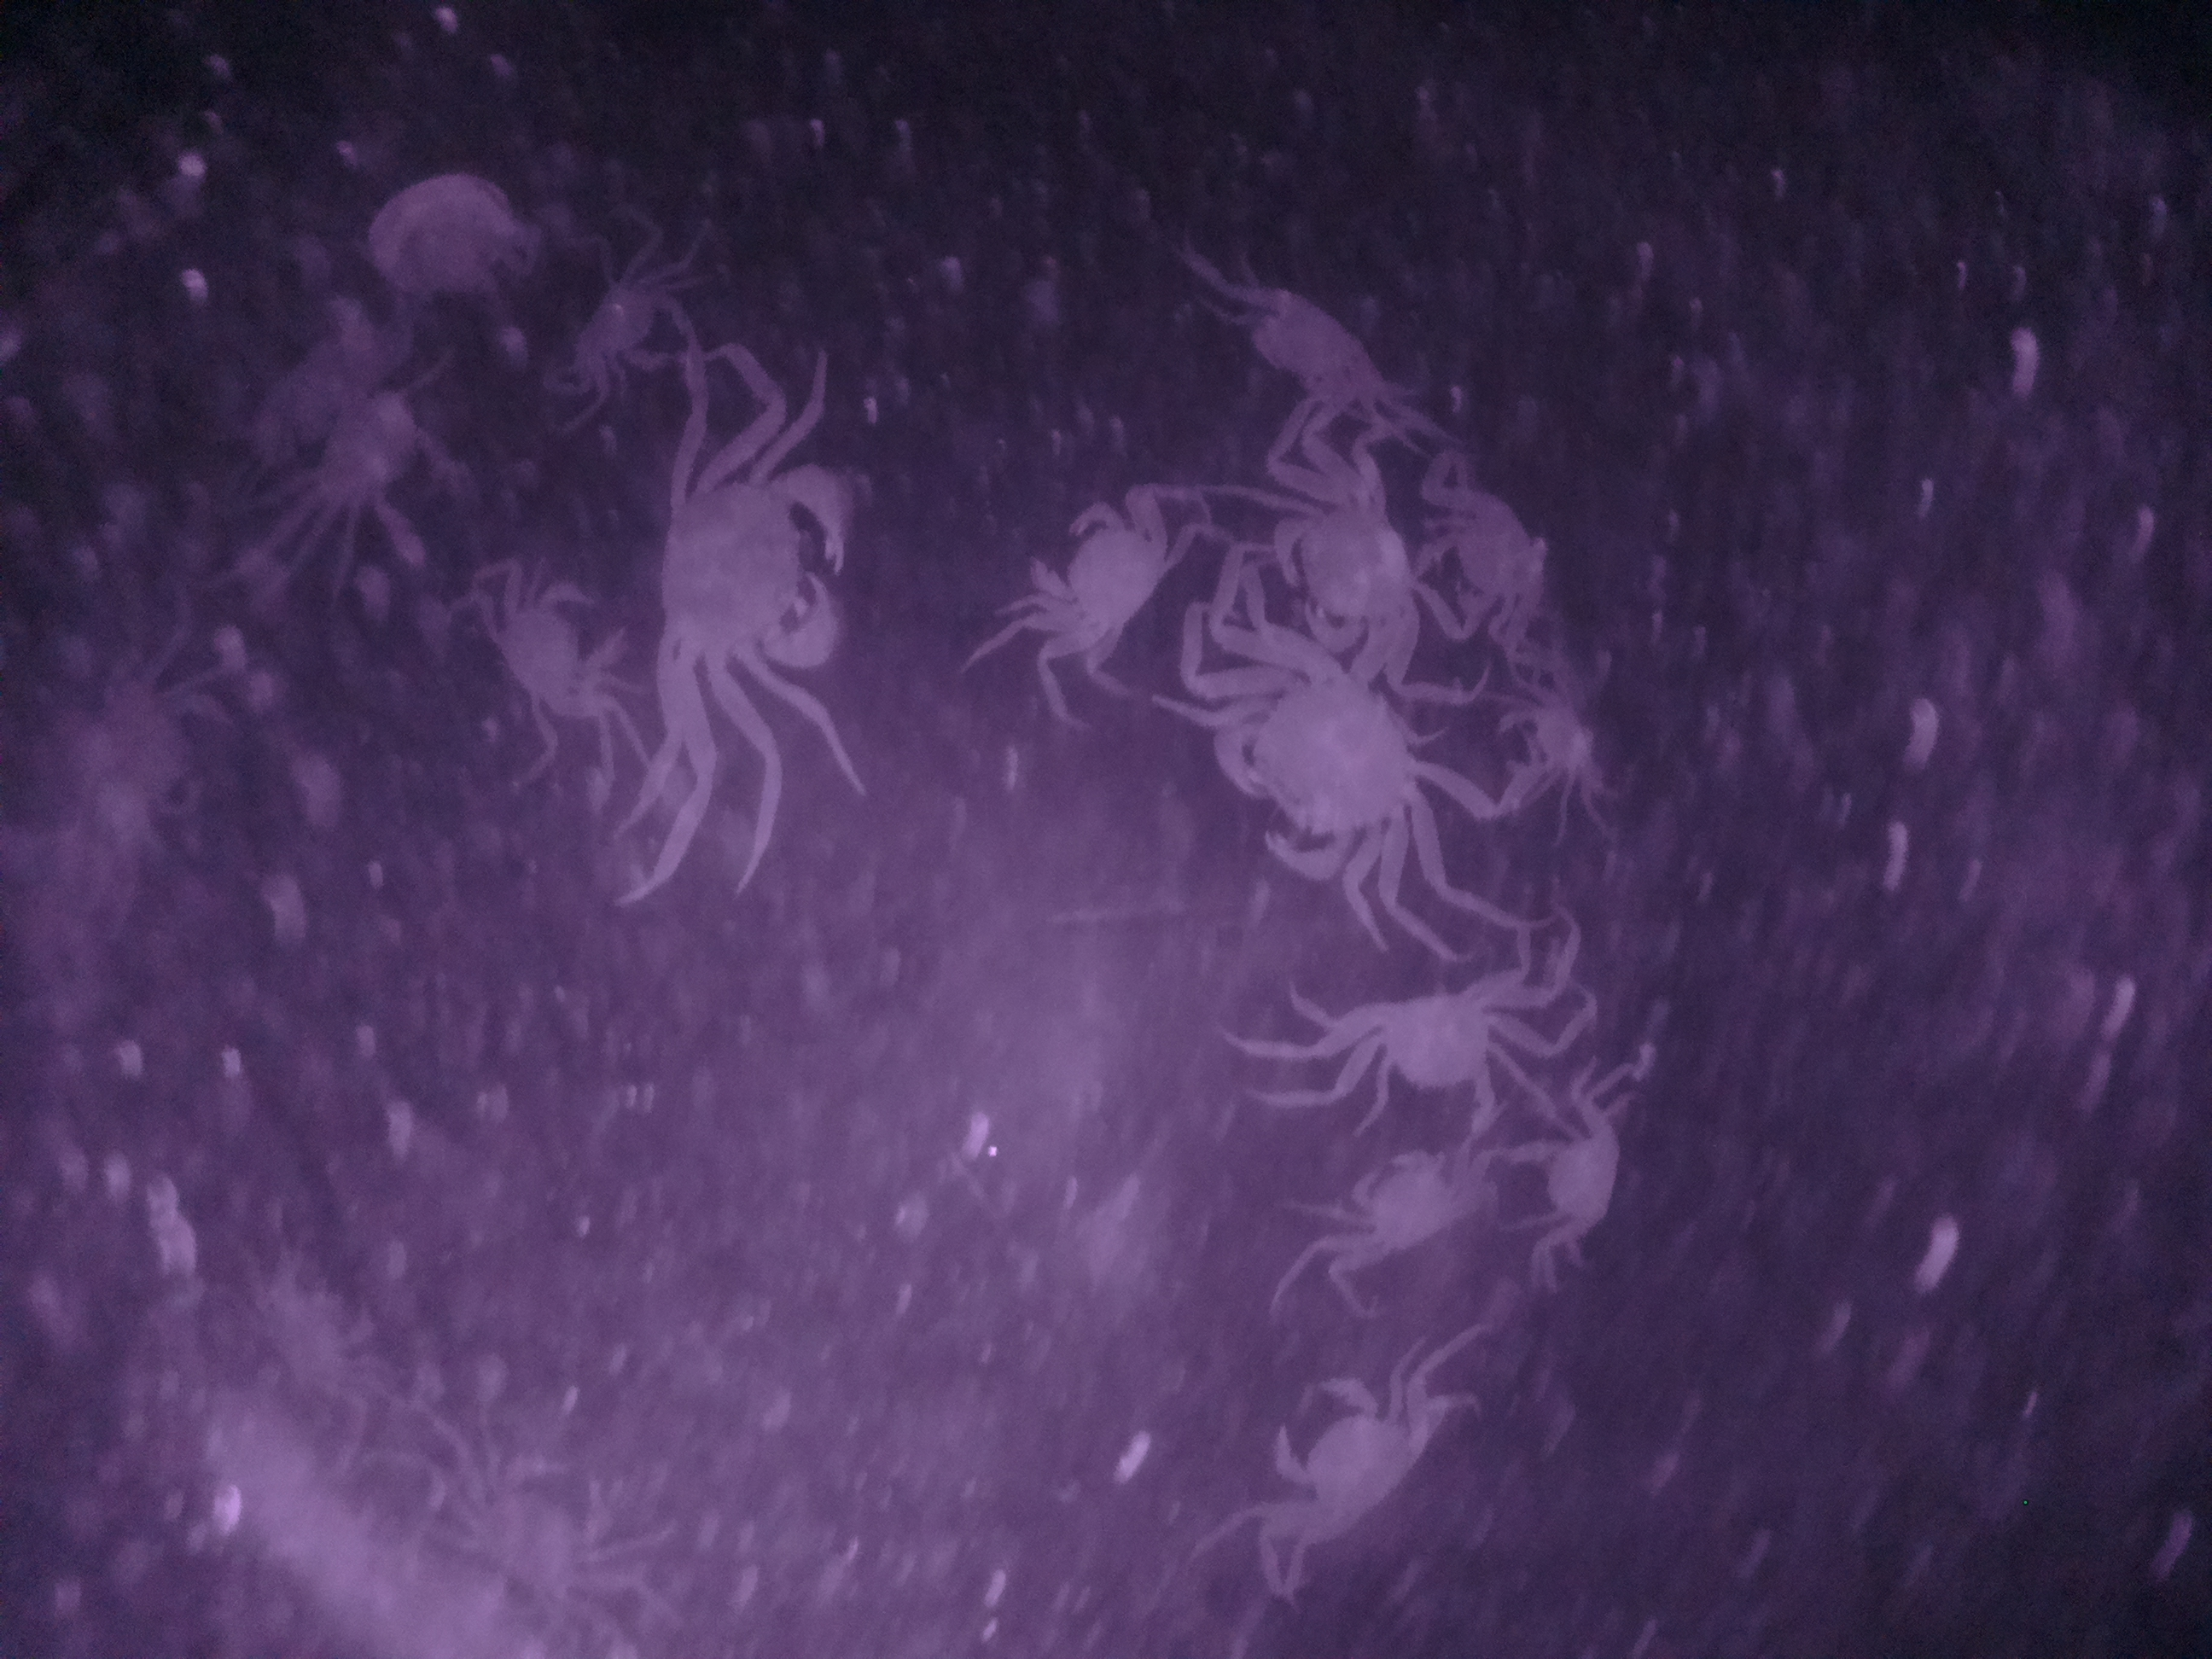Crab: (651, 427, 866, 711), (1200, 641, 1447, 887), (991, 477, 1193, 681), (1299, 972, 1540, 1136), (1247, 1356, 1420, 1575), (1242, 472, 1433, 662), (1336, 1126, 1468, 1277), (1501, 1094, 1616, 1256)
